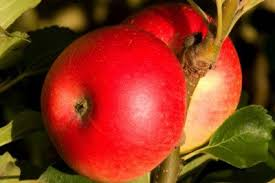apple: (46, 24, 178, 183)
